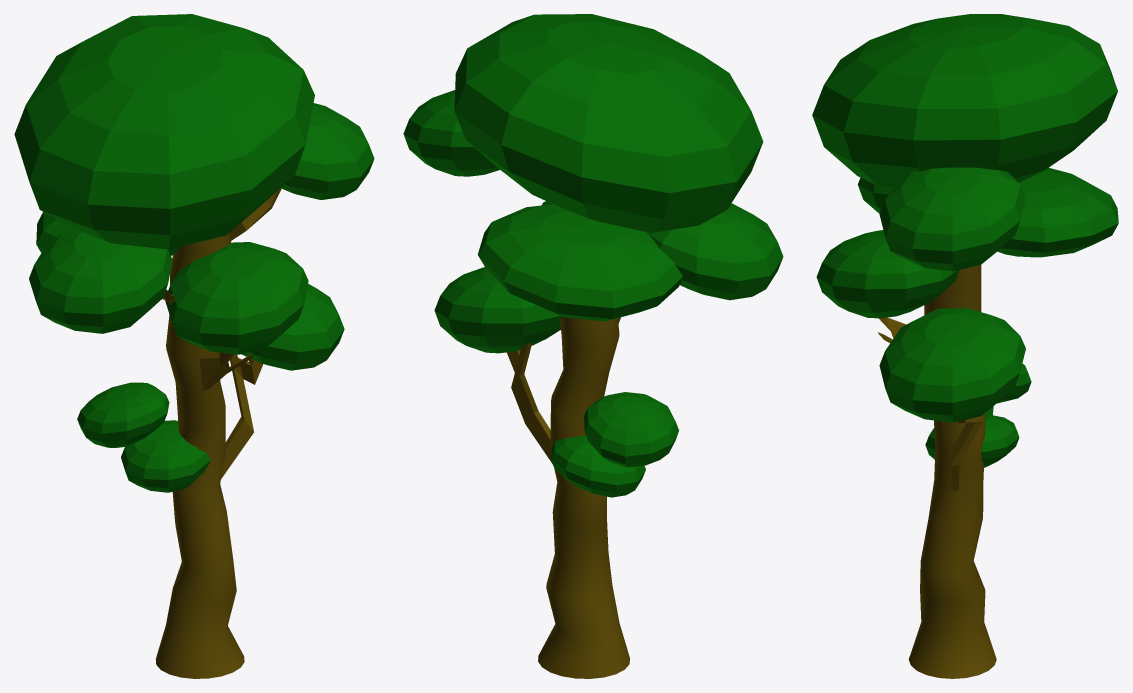
The model's file is Tree.fbx.
The picture shows the model from 3 angles, left to right: view 1: azimuth 30°, elevation 25°; view 2: azimuth 150°, elevation 25°; view 3: azimuth 270°, elevation 25°; orthographic projection. The views are drawn at different scales.
Visible parts, largest first — view 1: polySurface3; view 2: polySurface3; view 3: polySurface3.
Part boxes in pixels (<box>): polySurface3: <box>14,14,374,678</box>; polySurface3: <box>403,14,783,678</box>; polySurface3: <box>812,14,1118,678</box>.
Bounding box in the file's own units: 13.87 × 24.1 × 10.73.
